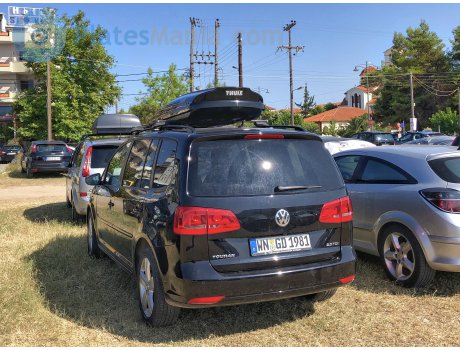License Plates: (251, 236, 316, 249)
